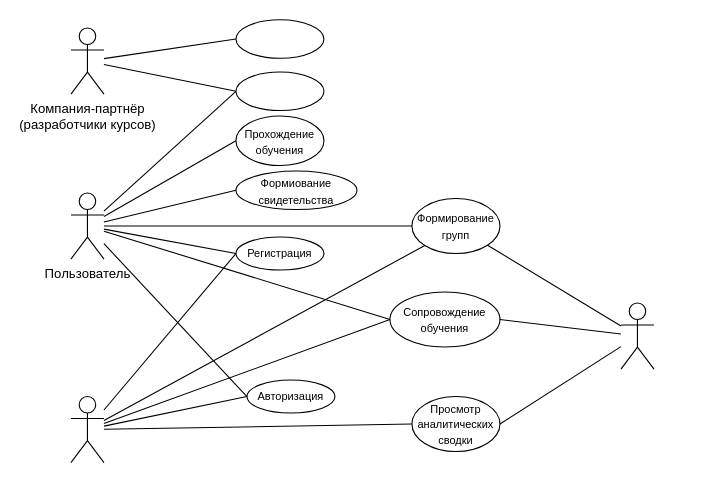
This 710x504 diagram has some shape labels left out. The box of each missing label's shape, as (x1, y1, x2, y2) in pixels:
Администратор: (70, 395, 104, 463)
Компания-клиент: (620, 302, 654, 369)
Поддержка курсов: (235, 71, 324, 111)
Разработка курсов: (235, 19, 324, 58)
